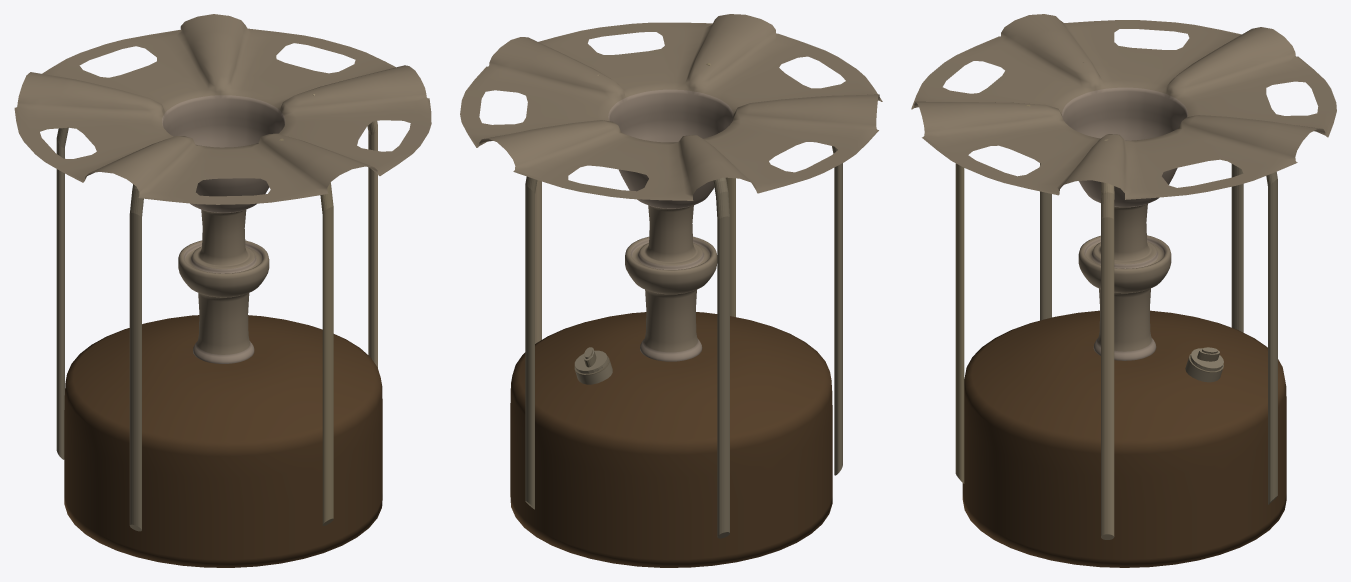
Rendered from stove batik .fbx.
The picture shows the model from 3 angles, left to right: view 1: azimuth 30°, elevation 25°; view 2: azimuth 150°, elevation 25°; view 3: azimuth 270°, elevation 25°; orthographic projection.
Visible parts, largest first — view 1: polySurface3, pCylinder1, pCylinder4, pCylinder3, pCylinder5, pCylinder7; view 2: polySurface3, pCylinder1, pCylinder5, pCylinder6, pCylinder4, pCylinder7, polySurface4, pCylinder3; view 3: polySurface3, pCylinder1, pCylinder7, pCylinder6, pCylinder3, pCylinder5, pCylinder4, polySurface4.
Boxes of the visible parts, x1,y1,x2,y2 form: polySurface3: [64, 315, 382, 567]; pCylinder1: [14, 14, 431, 363]; pCylinder4: [129, 140, 169, 531]; pCylinder3: [279, 138, 333, 525]; pCylinder5: [56, 127, 68, 459]; pCylinder7: [312, 94, 377, 367]; polySurface3: [510, 312, 832, 567]; pCylinder1: [460, 14, 882, 361]; pCylinder5: [713, 177, 729, 538]; pCylinder6: [525, 176, 537, 509]; pCylinder4: [767, 105, 842, 475]; pCylinder7: [535, 74, 599, 343]; polySurface4: [574, 347, 612, 384]; pCylinder3: [706, 63, 735, 316]; polySurface3: [962, 310, 1286, 567]; pCylinder1: [911, 14, 1336, 360]; pCylinder7: [1101, 139, 1114, 539]; pCylinder6: [1266, 172, 1277, 504]; pCylinder3: [955, 104, 1030, 483]; pCylinder5: [1231, 164, 1243, 332]; pCylinder4: [1040, 62, 1084, 320]; polySurface4: [1185, 347, 1223, 382].
Size of the model in its own units: 9.97 by 10.6 by 9.97.
